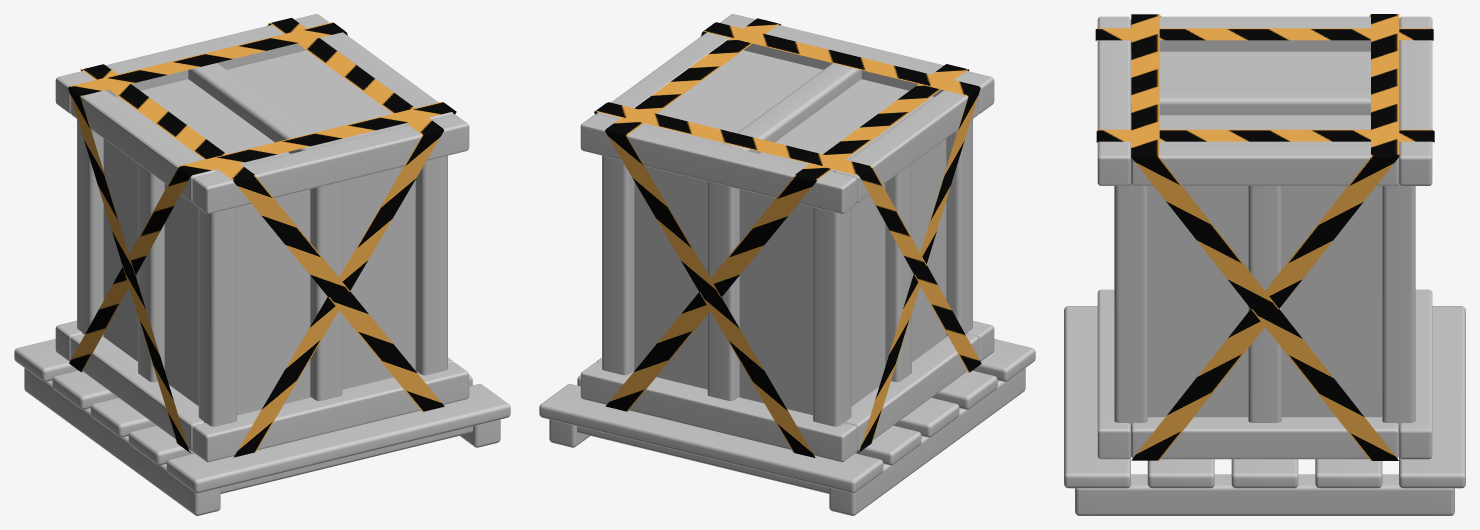
The model's file is SM_WoodenCrate_I_Pallet_TapeI_Pallet.fbx.
The picture shows the model from 3 angles, left to right: view 1: azimuth 30°, elevation 25°; view 2: azimuth 150°, elevation 25°; view 3: azimuth 270°, elevation 25°; orthographic projection. The views are drawn at different scales.
Parts seen in each view (by area): view 1: WoodenCrate_I_Pallet, Tape; view 2: WoodenCrate_I_Pallet, Tape; view 3: WoodenCrate_I_Pallet, Tape.
Boxes of the visible parts, x1=… form: WoodenCrate_I_Pallet: x1=14, y1=14, x2=510, y2=515; Tape: x1=68, y1=18, x2=456, y2=457; WoodenCrate_I_Pallet: x1=539, y1=14, x2=1035, y2=515; Tape: x1=594, y1=18, x2=981, y2=457; WoodenCrate_I_Pallet: x1=1064, y1=16, x2=1465, y2=515; Tape: x1=1095, y1=14, x2=1434, y2=460.
Size of the model in its own units: 240 by 231 by 240.
